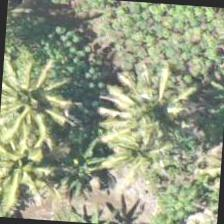Kelapa_Sawit: (35, 51, 131, 147), (155, 59, 223, 155), (159, 122, 222, 218)
